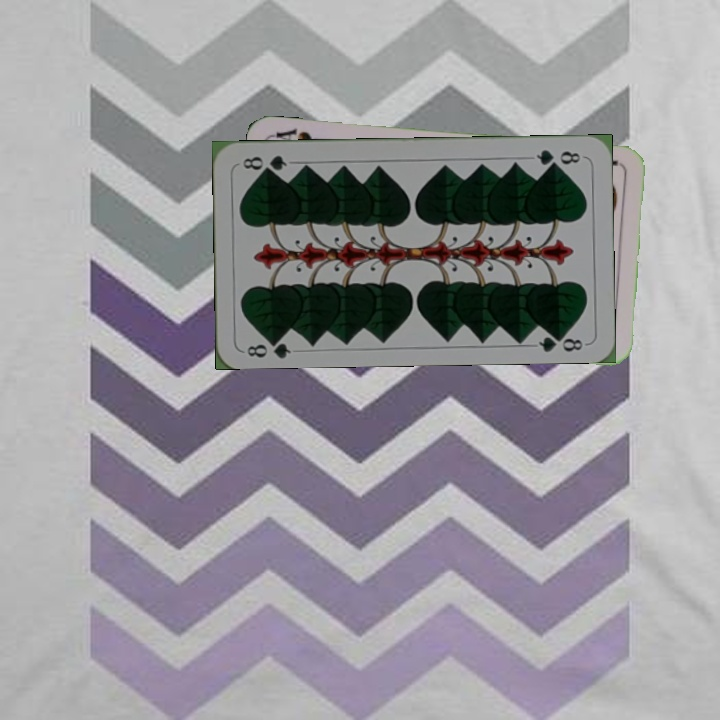G8: (243, 333, 293, 360), (532, 145, 583, 169)
